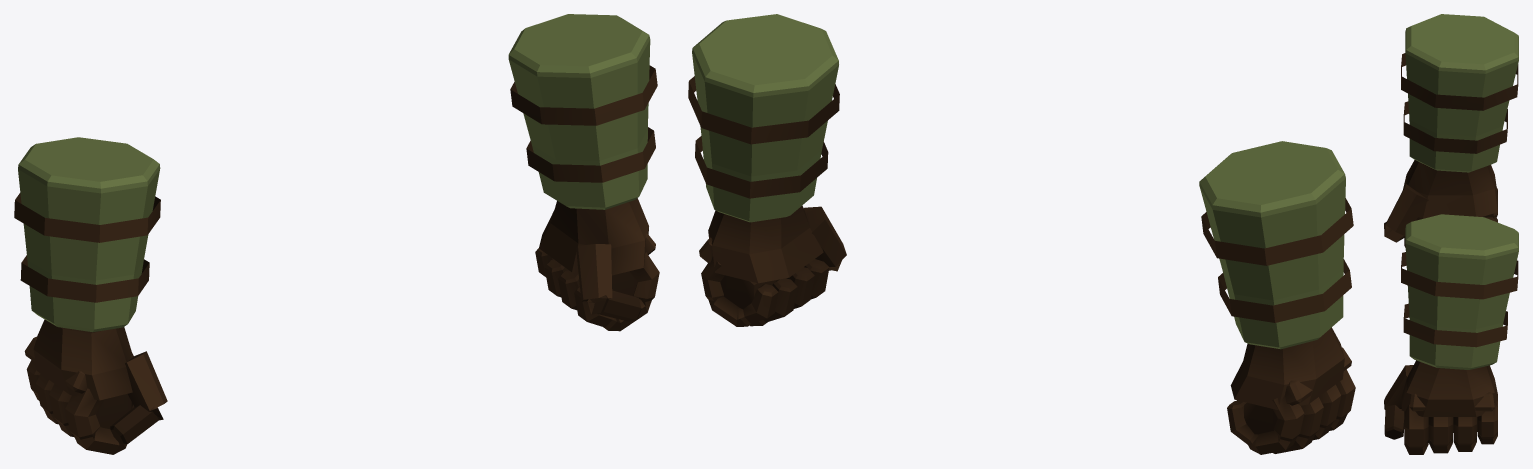
The model's file is g_bracers.glb.
The picture shows the model from 3 angles, left to right: view 1: azimuth 30°, elevation 25°; view 2: azimuth 150°, elevation 25°; view 3: azimuth 270°, elevation 25°; orthographic projection. The views are drawn at different scales.
Parts seen in each view (by area): view 1: ArmR_Hand, ArmL_Hand; view 2: ArmL_Hand, ArmR_Hand; view 3: ArmL_Hand, ArmR_Hand.
Part boxes in pixels (x1,y1,x2,y2): ArmR_Hand: (14,137,167,454); ArmL_Hand: (508,14,659,331); ArmL_Hand: (688,14,846,326); ArmR_Hand: (1199,141,1355,454); ArmL_Hand: (1384,214,1518,454); ArmR_Hand: (1384,14,1518,247).
Bounding box in the file's own units: 0.6758 × 0.2895 × 0.1589.
